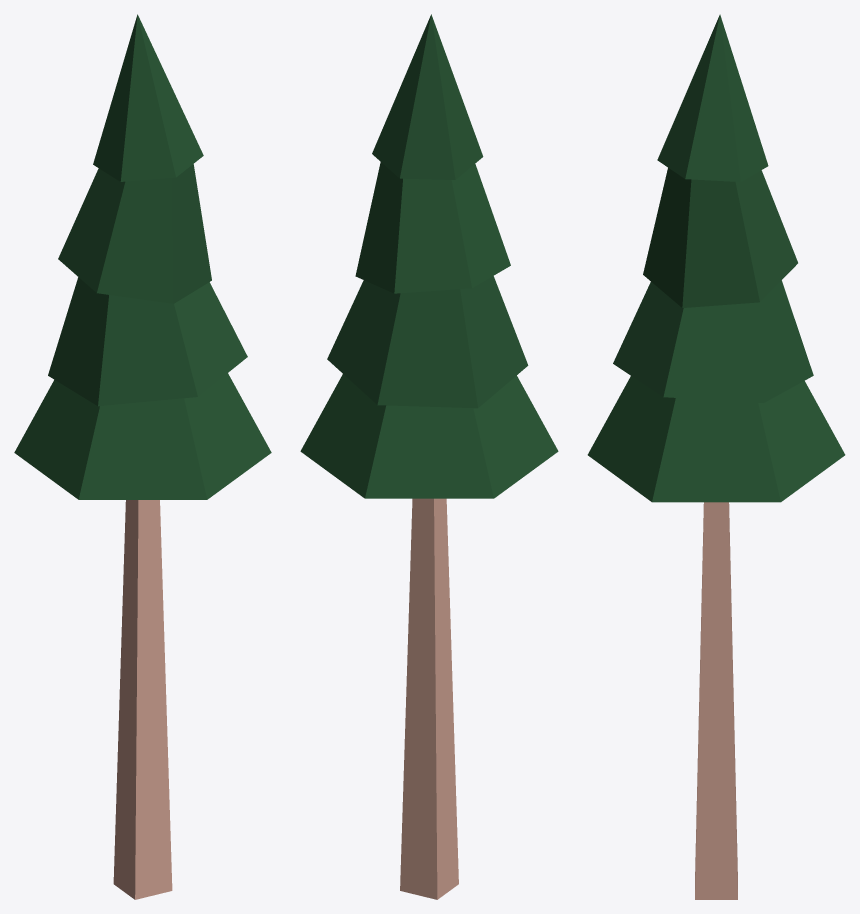
File: proto_pine_d.glb
3 renders of one model, left to right at view 1: azimuth 30°, elevation 25°; view 2: azimuth 150°, elevation 25°; view 3: azimuth 270°, elevation 25°, orthographic.
Visible parts, largest first — view 1: tree_pineTallD; view 2: tree_pineTallD; view 3: tree_pineTallD.
Boxes of the visible parts, x1,y1,x2,y2 form: tree_pineTallD: (14, 14, 271, 899); tree_pineTallD: (300, 14, 558, 899); tree_pineTallD: (587, 14, 845, 899).
Bounding box in the file's own units: 3.7 × 16 × 4.28.
